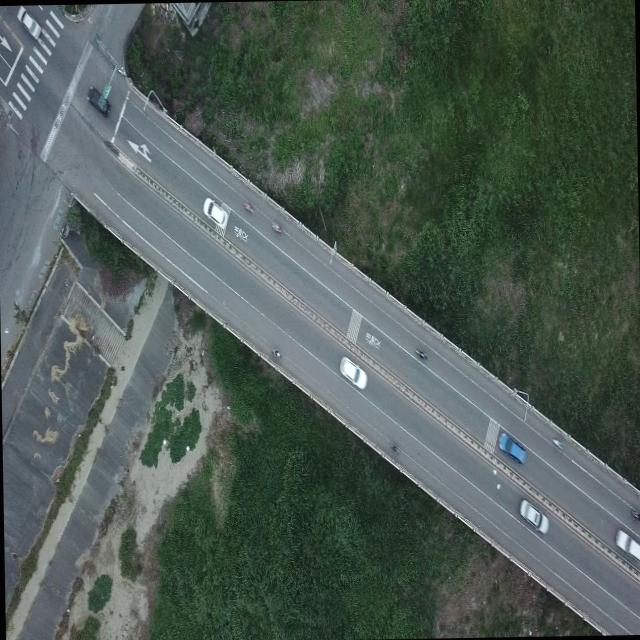bike: (268, 214, 283, 238), (389, 437, 401, 456), (267, 342, 281, 358), (242, 198, 254, 216), (414, 345, 426, 360)
car: (519, 496, 550, 537), (338, 352, 368, 392), (614, 525, 640, 568), (496, 428, 525, 466), (18, 6, 42, 42), (202, 196, 226, 229), (86, 84, 110, 116)
